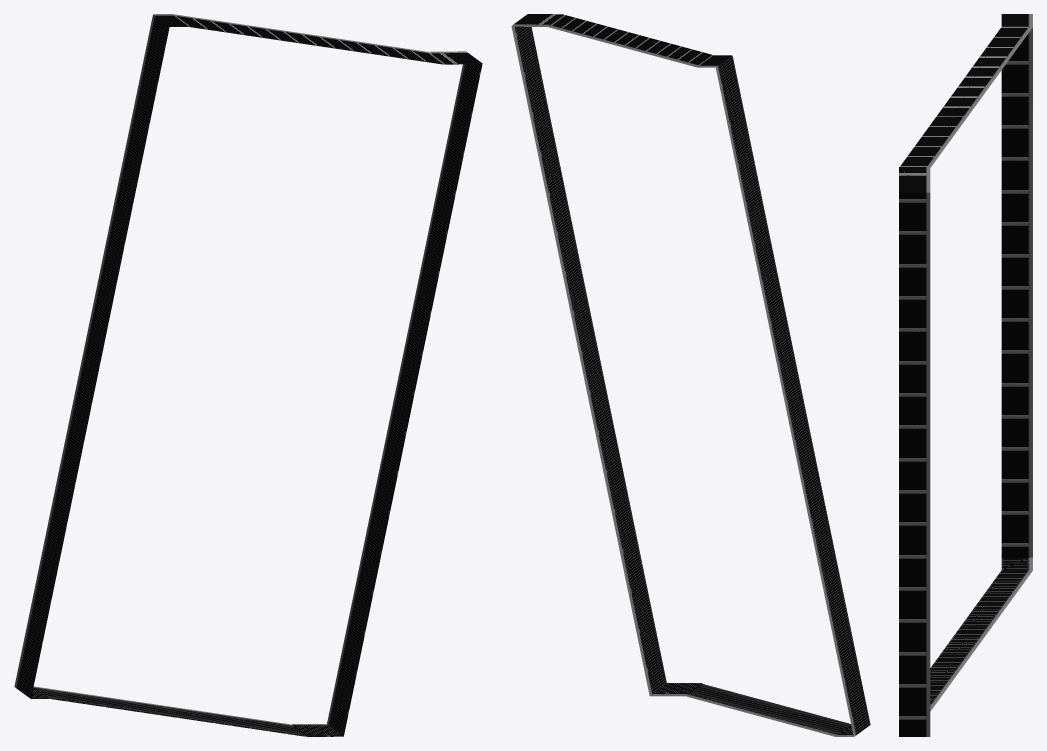
Rendered from _0TRIBUENE_02_020_SUB0.obj.
3 renders of one model, left to right at view 1: azimuth 30°, elevation 25°; view 2: azimuth 150°, elevation 25°; view 3: azimuth 270°, elevation 25°, orthographic. The views are drawn at different scales.
Visible parts, largest first — view 1: _0TRIBUENE_02_020_SUB0_Scene.173; view 2: _0TRIBUENE_02_020_SUB0_Scene.173; view 3: _0TRIBUENE_02_020_SUB0_Scene.173.
Boxes of the visible parts, x1,y1,x2,y2 form: _0TRIBUENE_02_020_SUB0_Scene.173: (14, 14, 482, 736); _0TRIBUENE_02_020_SUB0_Scene.173: (511, 14, 870, 736); _0TRIBUENE_02_020_SUB0_Scene.173: (899, 14, 1032, 736).
Size of the model in its own units: 2102 by 3534 by 642.
